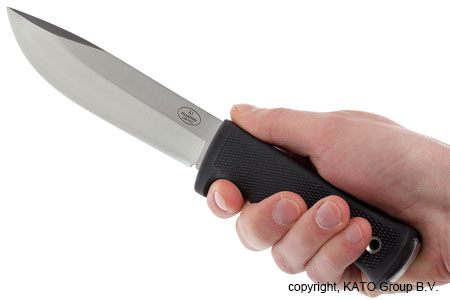knife: (1, 1, 356, 270)
